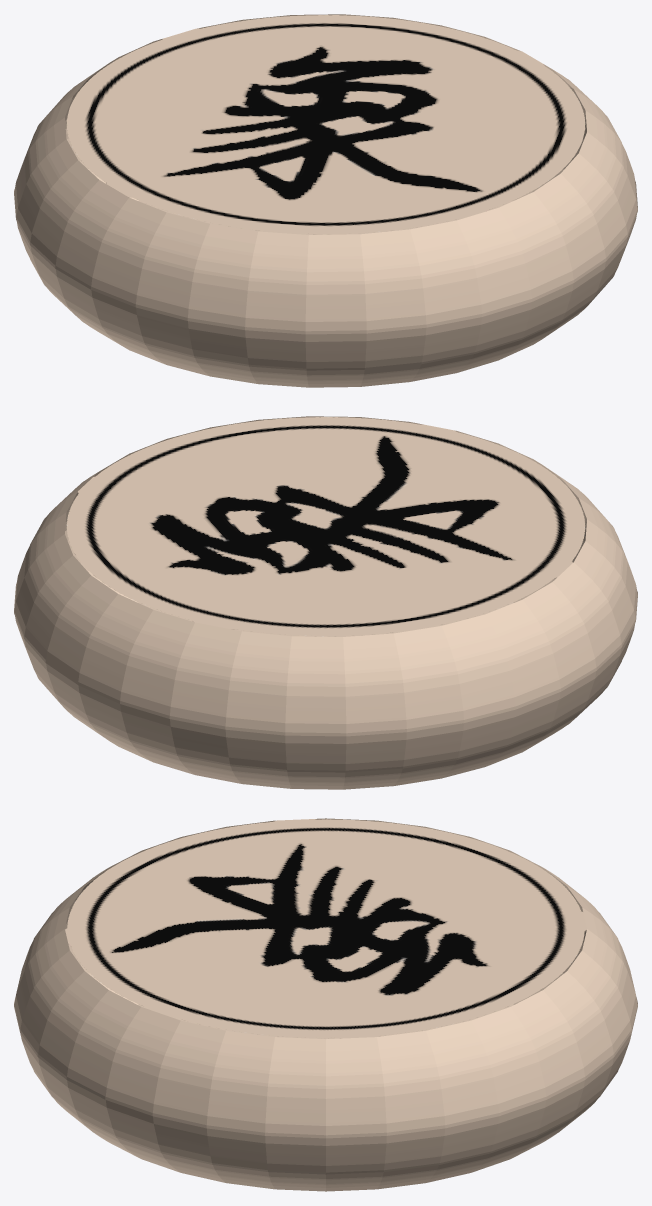
The model's file is black_bishop.fbx.
3 views of the same model, one above another, from view 1: azimuth 30°, elevation 25°; view 2: azimuth 150°, elevation 25°; view 3: azimuth 270°, elevation 25° (orthographic).
Parts seen in each view (by area): view 1: Black Bishop; view 2: Black Bishop; view 3: Black Bishop.
Part boxes in pixels (x1,y1,x2,y2): Black Bishop: [14, 14, 637, 387]; Black Bishop: [14, 416, 637, 789]; Black Bishop: [14, 818, 637, 1191].
Bounding box in the file's own units: 245 × 66.11 × 245.
Materials: 2 (1 with a texture image).
